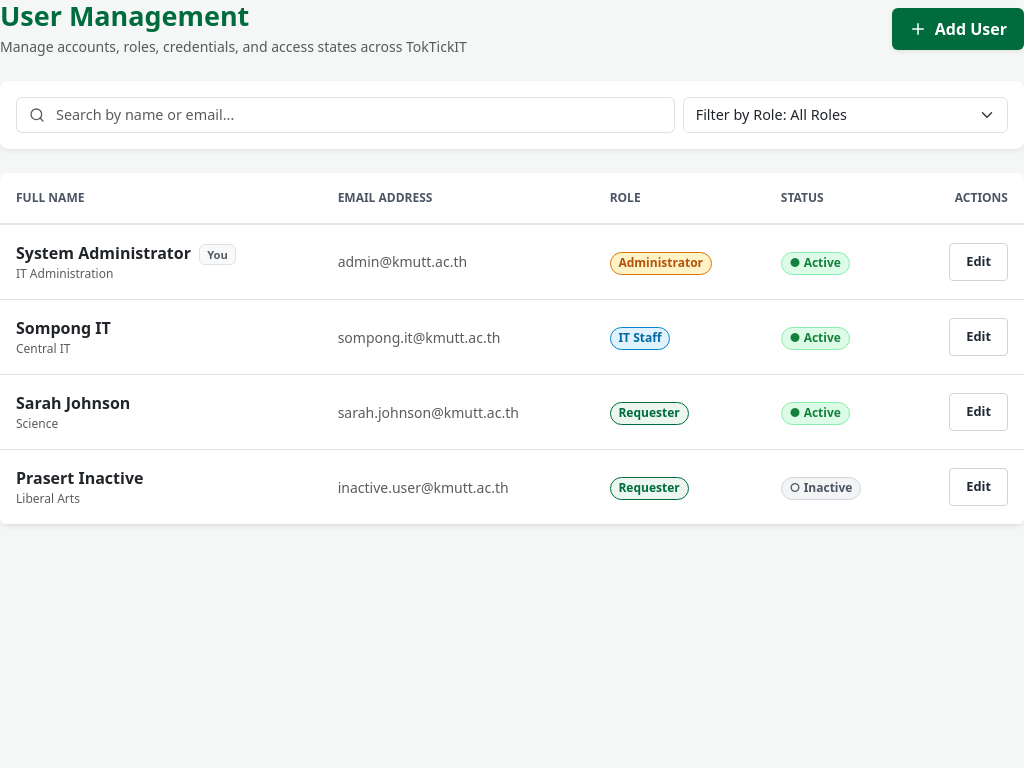
Test: Issue 15: Administrator User Management UI Component › UI-ADM-05: displays duplicate email conflict warning on 409 error (AC-15.2)
Click the button with test id "add-user-btn" at (958, 29), box x1=892 y1=8 x2=1023 y2=50
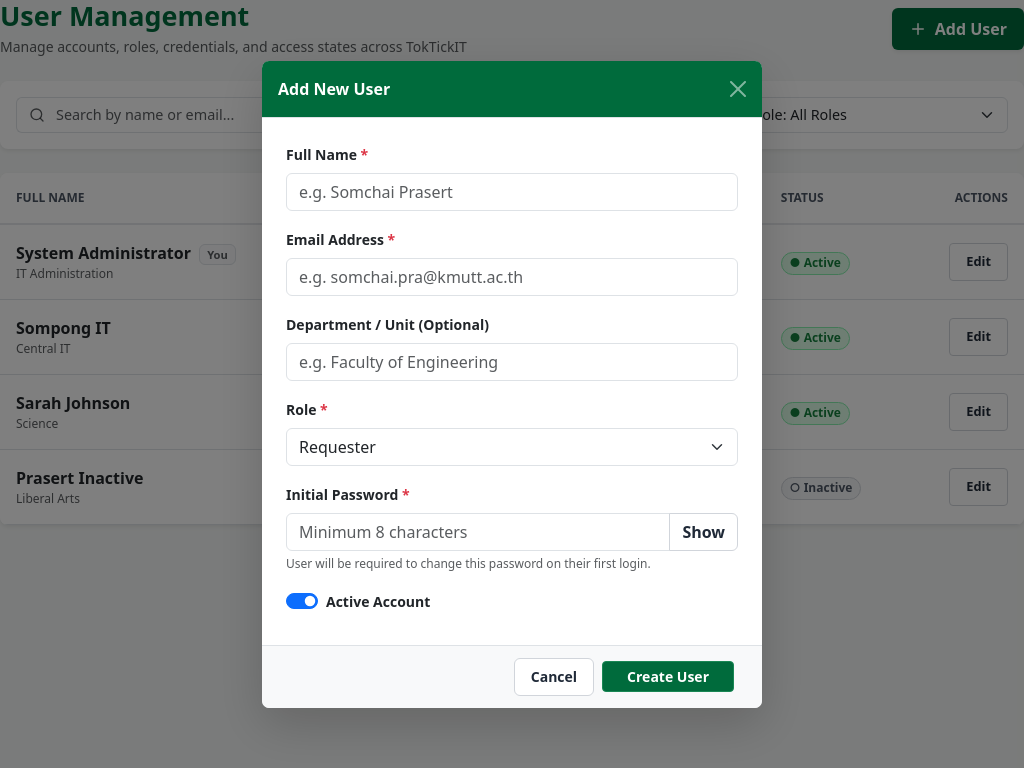
Type "Duplicate Admin" into the field with test id "create-user-name" at (512, 192), box x1=286 y1=172 x2=738 y2=210
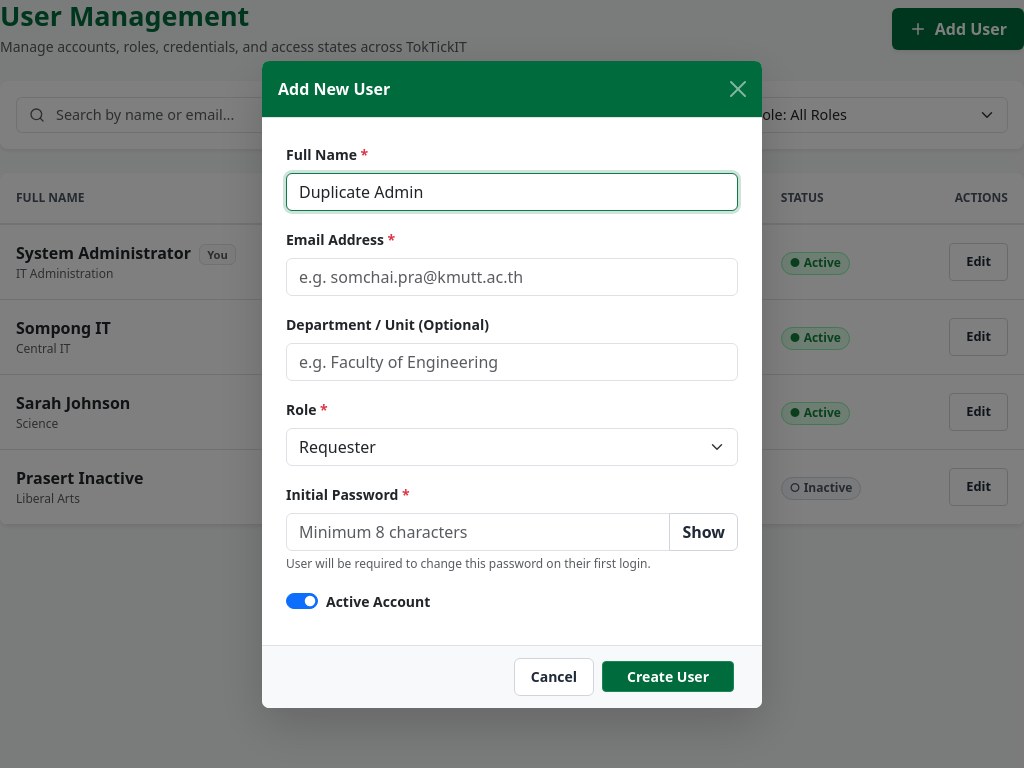
Type "admin@kmutt.ac.th" into the field with test id "create-user-email" at (512, 276), box x1=286 y1=258 x2=738 y2=296
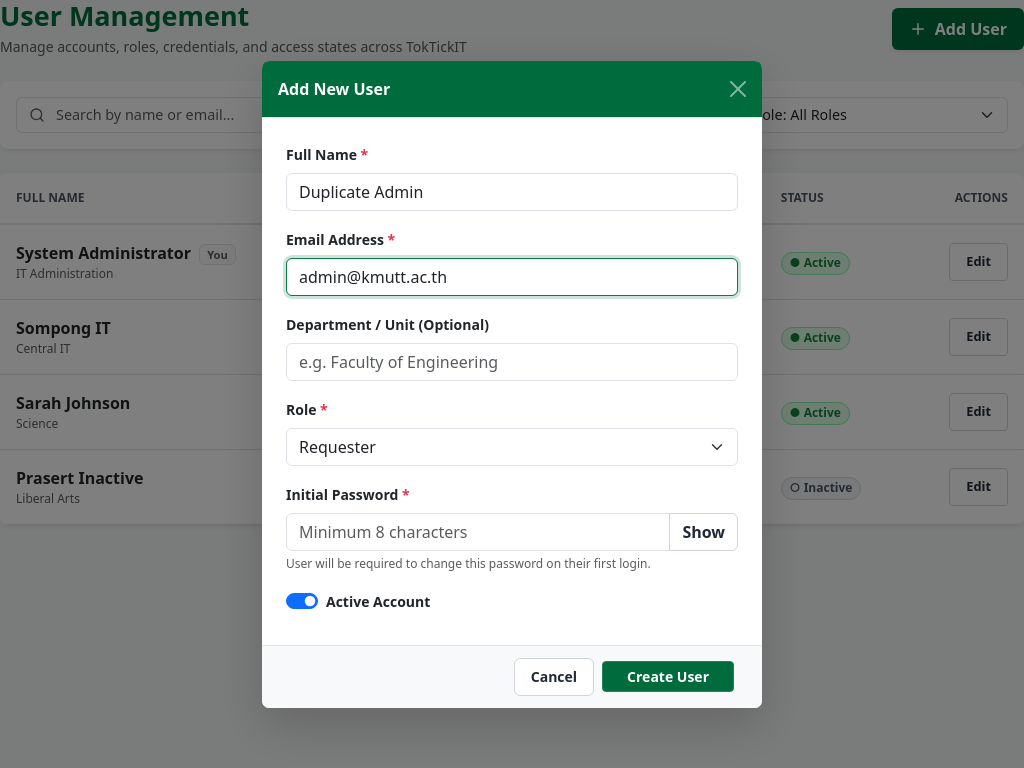
Type "Password123!" into the password field with test id "create-user-password" at (478, 532), box x1=286 y1=512 x2=670 y2=550
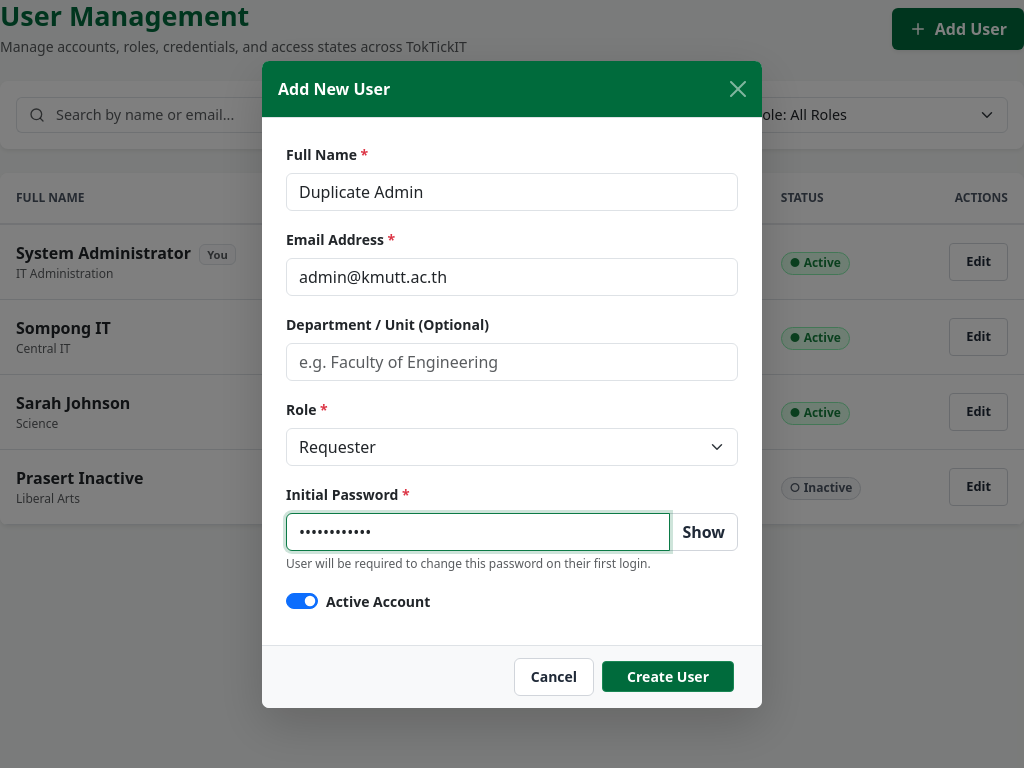
Click the button with test id "create-user-submit" at (668, 676), box x1=602 y1=661 x2=734 y2=692
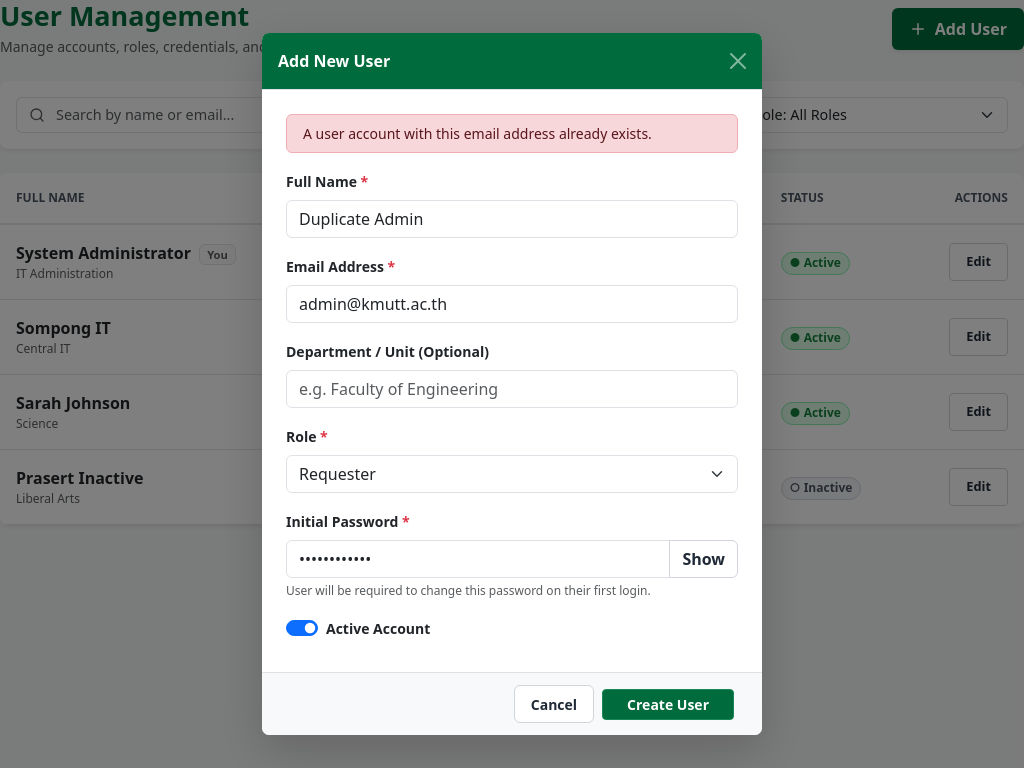
Now the message with test id "create-user-error" reads "A user account with this email address already exists.", box x1=303 y1=124 x2=652 y2=143
